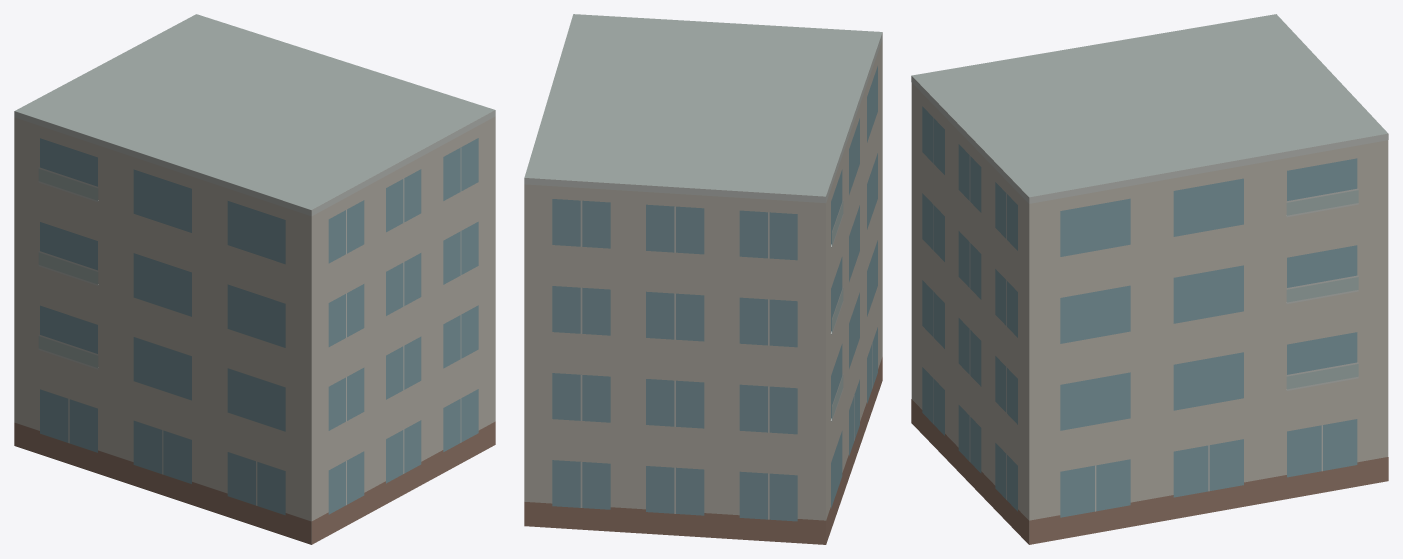
The model's file is survey-upis-32860469.glb.
3 renders of one model, left to right at view 1: azimuth 30°, elevation 25°; view 2: azimuth 150°, elevation 25°; view 3: azimuth 270°, elevation 25°, orthographic. The views are drawn at different scales.
Visible parts, largest first — view 1: survey-upis-32860469.tmp; view 2: survey-upis-32860469.tmp; view 3: survey-upis-32860469.tmp.
Part boxes in pixels (x1,y1,x2,y2): survey-upis-32860469.tmp: (14,14,495,544); survey-upis-32860469.tmp: (524,14,882,544); survey-upis-32860469.tmp: (911,14,1388,544).
Bounding box in the file's own units: 14.61 × 12.9 × 16.06.
